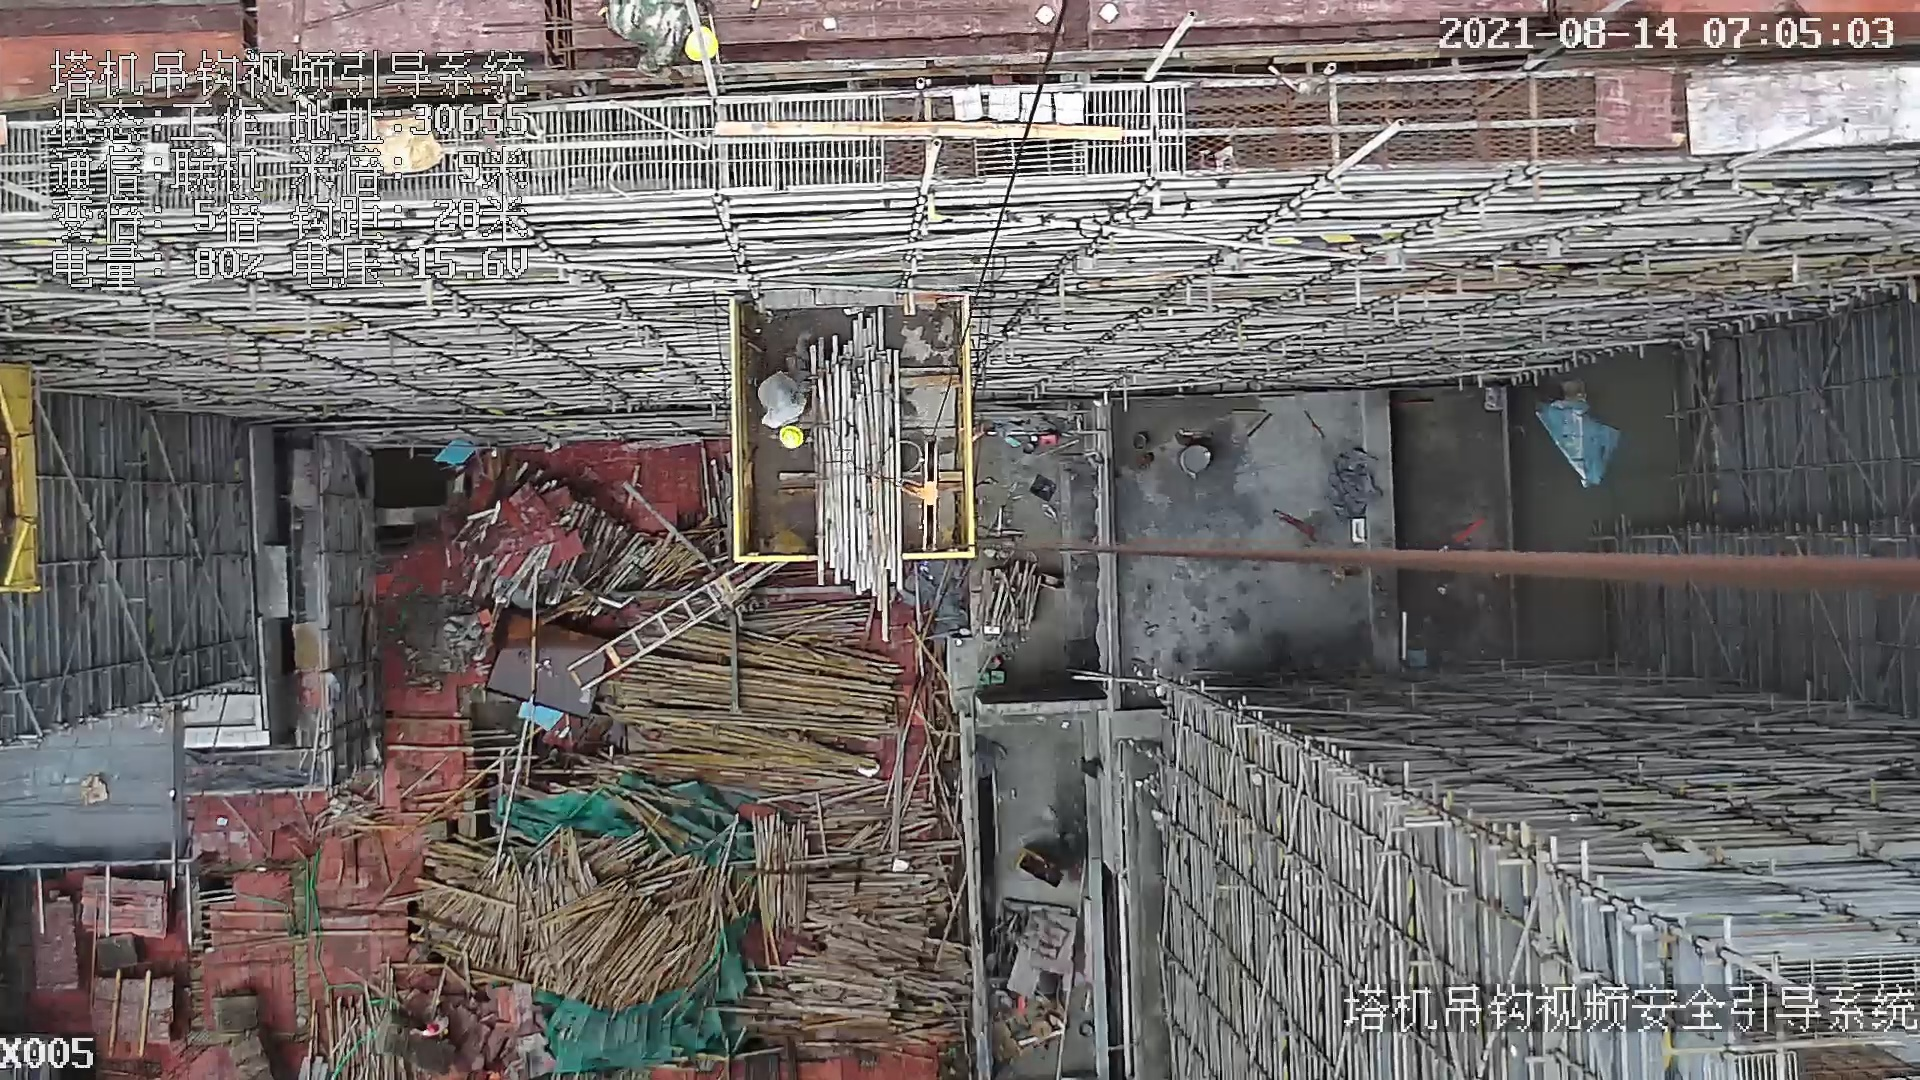helmet: (683, 24, 720, 69), (779, 424, 807, 450)
hook: (903, 436, 941, 555)
person: (597, 1, 715, 89), (755, 371, 810, 449)
